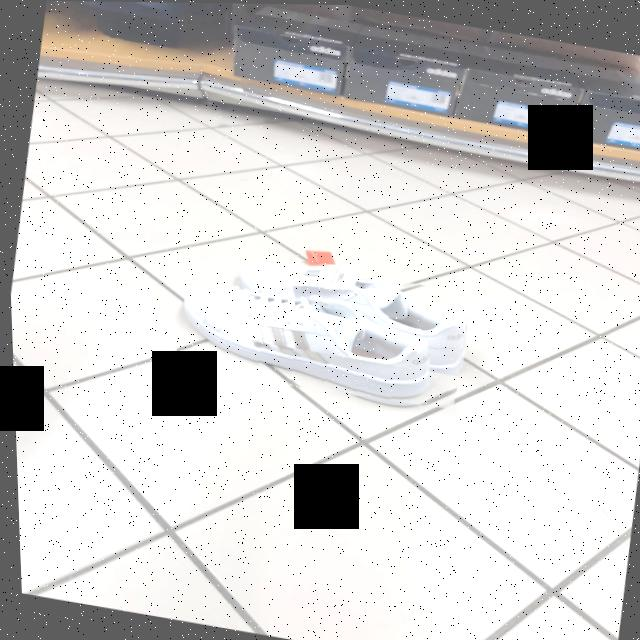shoe: (180, 286, 463, 402), (238, 263, 463, 374)
